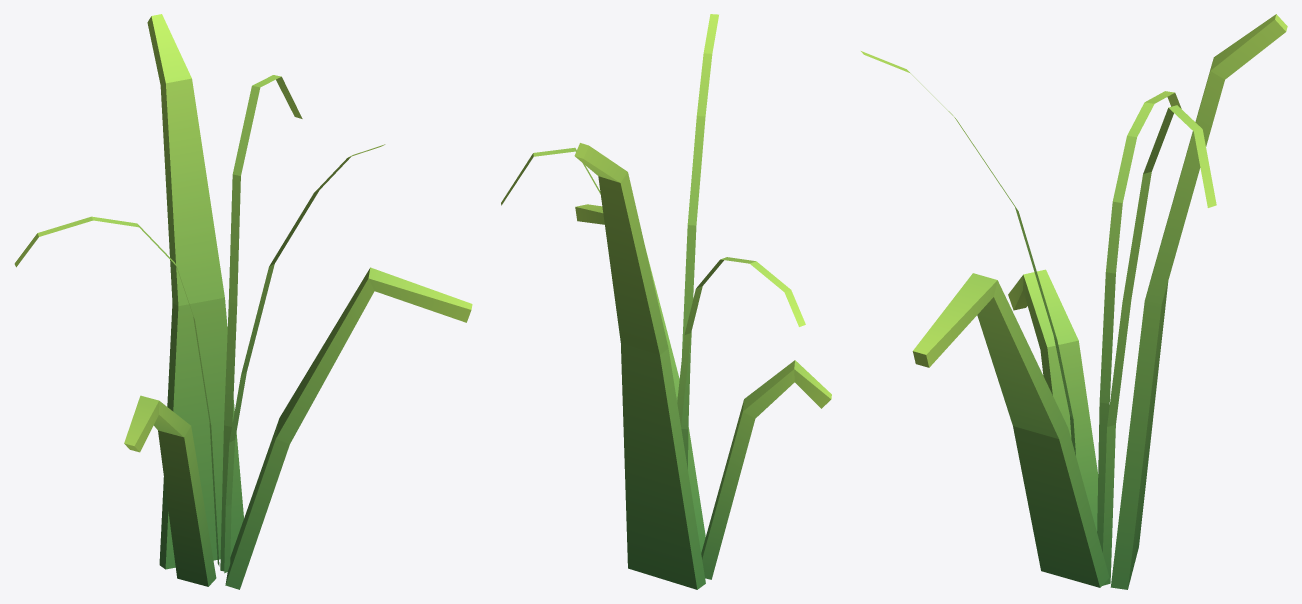
File: GreenGrass1.fbx
3 views of the same model, side by side, from view 1: azimuth 30°, elevation 25°; view 2: azimuth 150°, elevation 25°; view 3: azimuth 270°, elevation 25° (orthographic). The views are drawn at different scales.
Parts seen in each view (by area): view 1: GreenGrass1; view 2: GreenGrass1; view 3: GreenGrass1.
Part boxes in pixels (x1,y1,x2,y2): GreenGrass1: [14, 14, 472, 589]; GreenGrass1: [501, 14, 831, 589]; GreenGrass1: [861, 14, 1287, 589].
Bounding box in the file's own units: 132 × 182 × 123.
